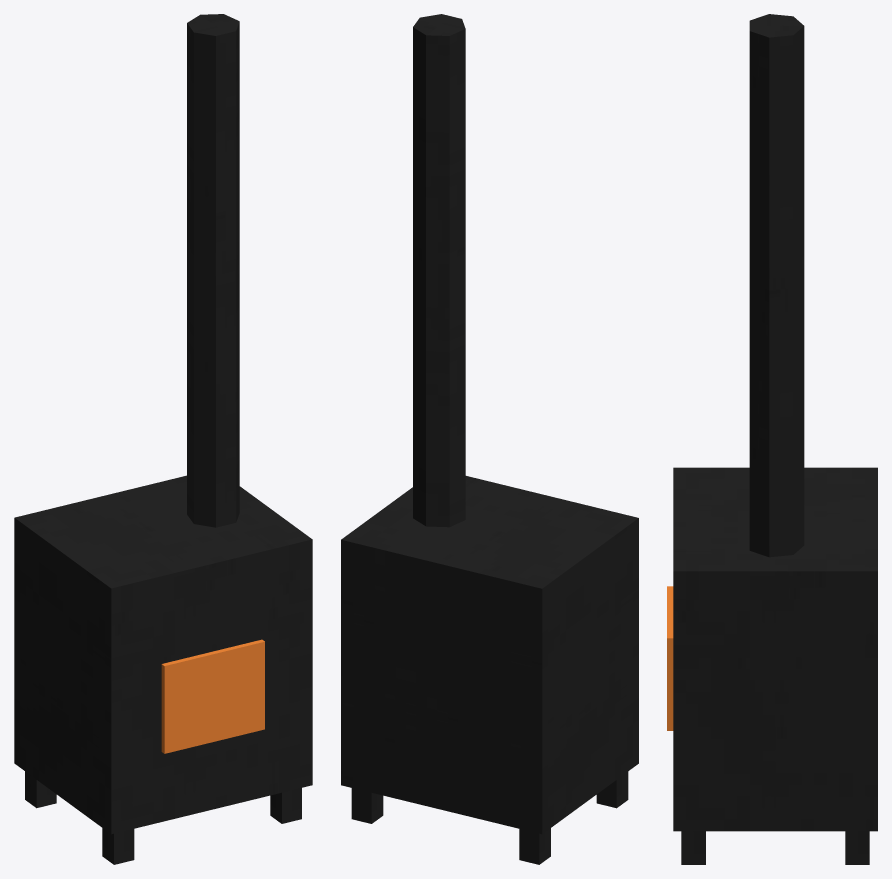
File: stove_iron_01.glb
3 renders of one model, left to right at view 1: azimuth 30°, elevation 25°; view 2: azimuth 150°, elevation 25°; view 3: azimuth 270°, elevation 25°, orthographic. The views are drawn at different scales.
Parts seen in each view (by area): view 1: stove_iron_01; view 2: stove_iron_01; view 3: stove_iron_01.
Boxes of the visible parts, x1,y1,x2,y2 form: stove_iron_01: [14, 14, 312, 864]; stove_iron_01: [341, 14, 638, 864]; stove_iron_01: [667, 14, 877, 864].
Size of the model in its own units: 0.6 by 2.2 by 0.515.
Materials: 2 (2 with a texture image).
